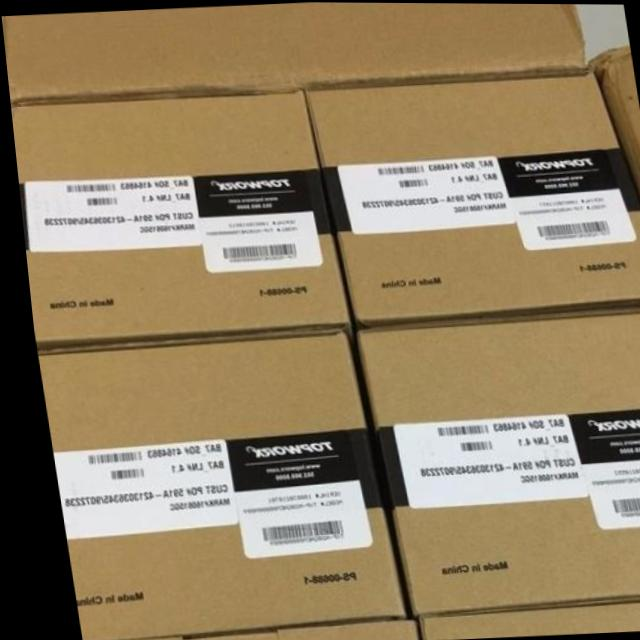box: (31, 331, 394, 640), (346, 306, 640, 616), (303, 70, 640, 330), (9, 90, 344, 349), (404, 599, 640, 639), (128, 618, 409, 640)
